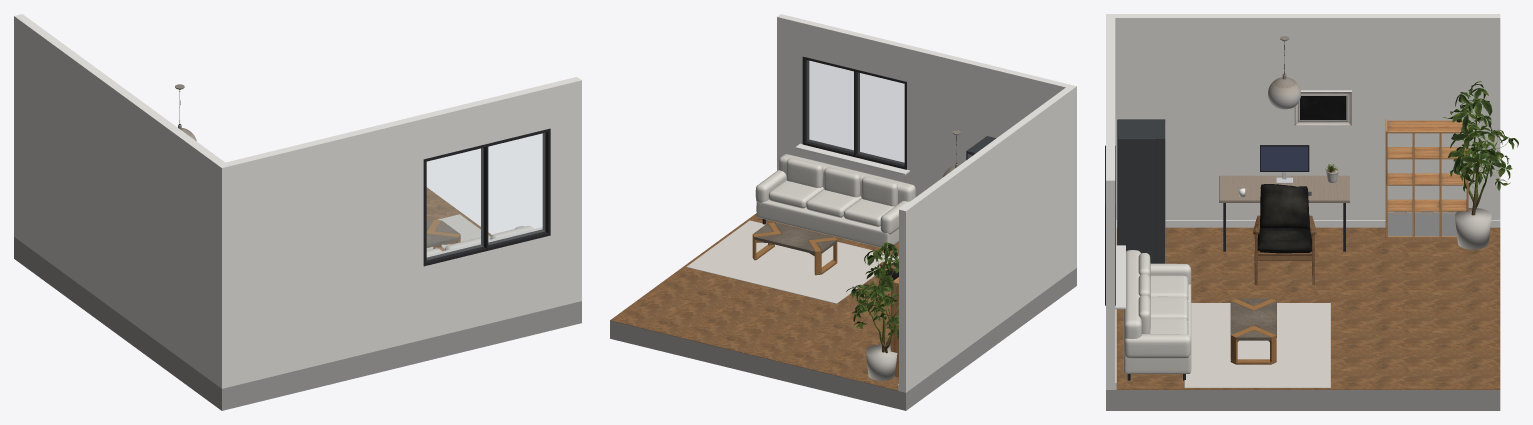
File: ofis.glb
3 views of the same model, side by side, from view 1: azimuth 30°, elevation 25°; view 2: azimuth 150°, elevation 25°; view 3: azimuth 270°, elevation 25° (orthographic). The views are drawn at different scales.
Visible parts, largest first — view 1: duvar_sol, duvar_arka_sol, taban, cam, duvar_arka_alt, duvar_arka_sag, duvar_arka_ust, pencere_alt, pencere_sag, pencere_orta, modern_coffee_table_01, zemin (+1 smaller); view 2: duvar_sol, zemin, duvar_arka_sol, taban, cam, hali, duvar_arka_ust, duvar_arka_sag, kanepe_govde, pachira_aquatica_01_leaves_d, modern_coffee_table_01, kanepe_sirt (+15 smaller); view 3: duvar_sol, zemin, hali, taban, sunucu, wooden_display_shelves_01, modern_arm_chair_01, pachira_aquatica_01_leaves_d, masa, modern_coffee_table_01, duvar_arka_sag, hanging_picture_frame_02 (+20 smaller).
Boxes of the visible parts, x1,y1,x2,y2 form: duvar_sol: [14, 14, 230, 388]; duvar_arka_sol: [226, 115, 423, 386]; taban: [14, 237, 581, 410]; cam: [427, 133, 545, 259]; duvar_arka_alt: [423, 235, 550, 339]; duvar_arka_sag: [545, 77, 581, 308]; duvar_arka_ust: [419, 84, 550, 159]; pencere_alt: [423, 229, 548, 265]; pencere_sag: [542, 129, 550, 235]; pencere_orta: [481, 144, 488, 250]; modern_coffee_table_01: [426, 219, 460, 251]; zemin: [426, 187, 491, 236]; duvar_sol: [899, 84, 1076, 392]; zemin: [610, 213, 898, 390]; duvar_arka_sol: [907, 46, 1069, 196]; taban: [610, 268, 1076, 410]; cam: [807, 60, 904, 164]; hali: [686, 220, 898, 303]; duvar_arka_ust: [803, 20, 910, 81]; duvar_arka_sag: [777, 14, 806, 170]; kanepe_govde: [756, 199, 898, 249]; pachira_aquatica_01_leaves_d: [846, 242, 898, 339]; modern_coffee_table_01: [752, 222, 837, 275]; kanepe_sirt: [779, 154, 915, 203]; duvar_sol: [1106, 14, 1500, 220]; zemin: [1116, 227, 1500, 389]; hali: [1184, 303, 1330, 387]; taban: [1106, 390, 1500, 410]; sunucu: [1117, 119, 1155, 263]; wooden_display_shelves_01: [1385, 119, 1468, 239]; modern_arm_chair_01: [1253, 184, 1316, 284]; pachira_aquatica_01_leaves_d: [1443, 81, 1518, 192]; masa: [1219, 175, 1349, 202]; modern_coffee_table_01: [1230, 298, 1276, 364]; duvar_arka_sag: [1106, 166, 1115, 389]; hanging_picture_frame_02: [1294, 90, 1351, 125].
Size of the model in its own units: 5.12 by 3.3 by 5.37.
30 materials, 15 textured.
